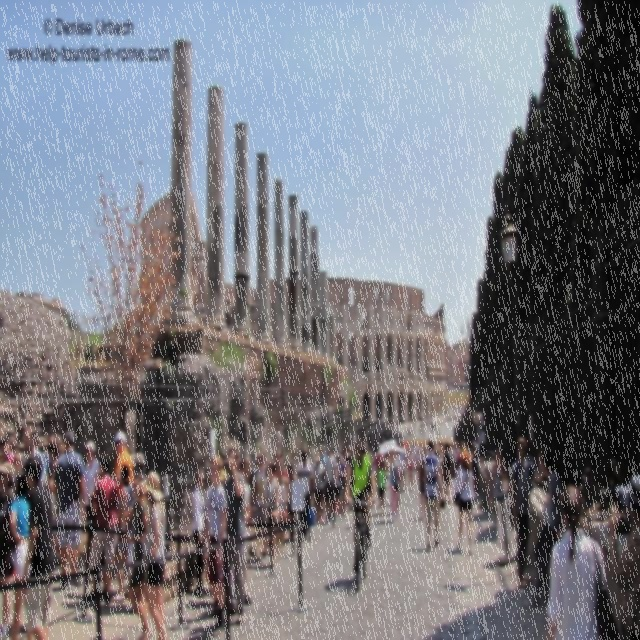pessoa: (546, 482, 608, 639), (522, 446, 564, 608), (22, 453, 58, 639), (606, 467, 640, 639), (52, 428, 88, 590), (120, 470, 154, 639), (200, 452, 230, 639), (507, 433, 542, 591), (86, 452, 120, 604), (140, 470, 168, 639), (344, 434, 376, 572), (223, 446, 247, 626), (8, 470, 31, 639), (0, 460, 18, 639), (110, 462, 132, 604), (422, 436, 447, 552), (491, 446, 514, 566), (452, 444, 476, 556), (260, 458, 280, 569), (191, 464, 207, 600), (250, 449, 268, 560), (126, 451, 148, 535), (20, 422, 46, 487), (46, 440, 60, 560), (296, 446, 314, 536), (275, 459, 291, 557), (83, 438, 100, 524), (112, 428, 134, 494), (322, 442, 338, 526), (384, 448, 400, 524), (312, 448, 326, 524), (440, 440, 456, 504), (238, 454, 252, 526), (286, 460, 298, 541), (471, 408, 487, 468), (373, 442, 386, 509), (418, 447, 429, 520), (332, 450, 343, 517), (336, 436, 354, 476), (434, 448, 444, 519), (304, 444, 316, 502), (272, 451, 290, 488), (394, 450, 404, 514), (446, 437, 460, 482), (42, 431, 58, 470), (470, 434, 480, 496), (397, 438, 408, 493), (405, 441, 417, 491), (377, 460, 387, 517), (47, 442, 60, 473), (488, 491, 498, 530), (217, 466, 230, 490), (12, 450, 24, 473), (316, 443, 327, 468), (340, 493, 354, 512), (460, 438, 472, 460), (452, 443, 459, 479), (54, 434, 64, 456), (418, 417, 436, 429), (416, 448, 422, 483), (404, 424, 416, 439), (362, 440, 372, 457), (446, 442, 454, 461), (22, 451, 30, 469), (451, 402, 464, 413), (418, 438, 428, 451), (432, 438, 442, 451), (390, 419, 400, 431), (444, 414, 456, 424), (453, 438, 460, 454), (498, 442, 504, 460), (35, 437, 42, 452), (452, 423, 458, 438), (418, 427, 425, 439), (394, 438, 400, 449), (456, 438, 460, 454), (446, 404, 452, 414), (456, 414, 462, 424), (441, 442, 446, 453), (411, 438, 416, 449), (408, 414, 412, 426), (430, 427, 434, 439), (400, 433, 404, 442), (436, 427, 439, 438), (380, 452, 384, 460), (412, 421, 416, 427)
